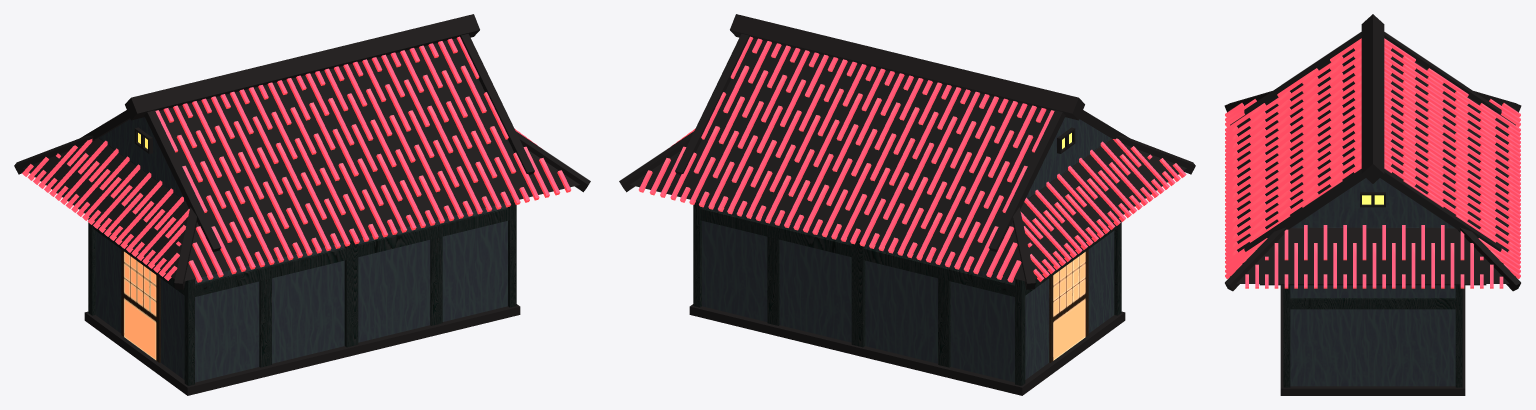
Rendered from S1_Minka_Top.fbx.
3 renders of one model, left to right at view 1: azimuth 30°, elevation 25°; view 2: azimuth 150°, elevation 25°; view 3: azimuth 270°, elevation 25°, orthographic. The views are drawn at different scales.
Parts seen in each view (by area): view 1: Base, Kawara, Mado; view 2: Base, Kawara, Mado; view 3: Base, Kawara.
Boxes of the visible parts, <box> form: Base: <box>14,14,590,395</box>; Kawara: <box>22,36,571,282</box>; Mado: <box>121,249,160,362</box>; Base: <box>619,14,1195,395</box>; Kawara: <box>638,36,1186,282</box>; Mado: <box>1049,249,1088,362</box>; Base: <box>1224,14,1521,395</box>; Kawara: <box>1225,38,1520,288</box>.
Bounding box in the file's own units: 1575 × 945 × 1086.
3 materials, 3 textured.
